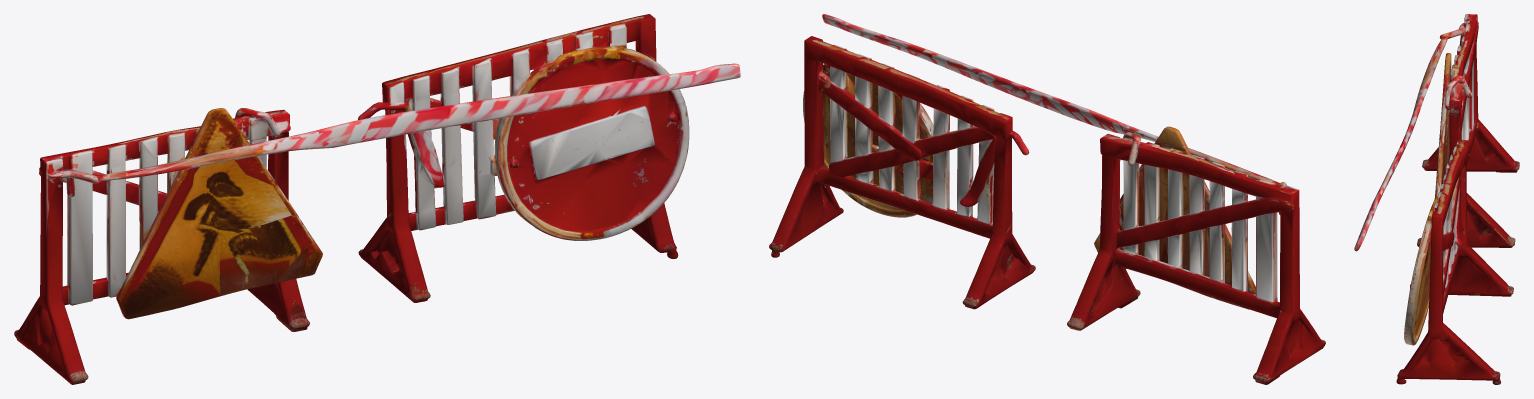
File: Знаки_01.fbx
The picture shows the model from 3 angles, left to right: view 1: azimuth 30°, elevation 25°; view 2: azimuth 150°, elevation 25°; view 3: azimuth 270°, elevation 25°; orthographic projection. The views are drawn at different scales.
Parts seen in each view (by area): view 1: texture_pbr_v128; view 2: texture_pbr_v128; view 3: texture_pbr_v128.
Boxes of the visible parts, <box> form: texture_pbr_v128: <box>14,14,740,384</box>; texture_pbr_v128: <box>769,14,1325,384</box>; texture_pbr_v128: <box>1354,14,1519,384</box>.
Bounding box in the file's own units: 111 × 38.91 × 33.86.
Materials: 1 (1 with a texture image).
